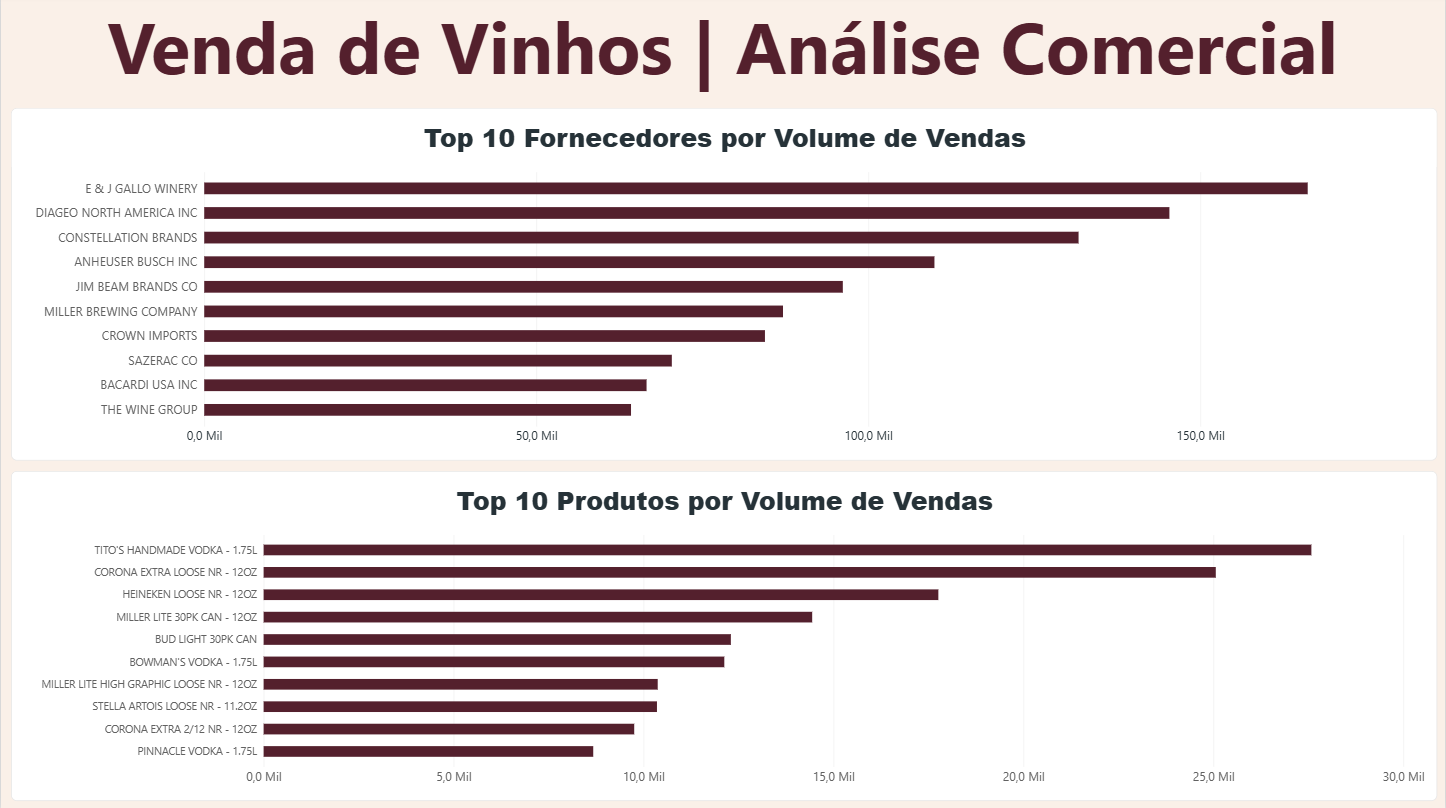

The dashboard page shown, as its layout file describes it:
{"tool":"powerbi","page":{"name":"Análise Comercial","canvas":[1920,1080],"ordinal":1},"visuals":[{"type":"barChart","title":"Top 10 Fornecedores por Volume de Vendas ","fields":{"Category":["Vendas por Fornecedor.SUPPLIER"],"Y":["Vendas por Fornecedor.Retail Sales por Fornecedor"]},"box":[13,149.1,1896.8,469.1],"z":0},{"type":"barChart","title":"Top 10 Produtos por Volume de Vendas","fields":{"Category":["Vendas por Produto.ITEM_DESCRIPTION"],"Y":["Vendas por Produto.Retail Sales por Produto"]},"box":[13,631.3,1896.8,438.7],"z":1},{"type":"textbox","box":[0,0,1920,162],"z":2}]}

Visuals, with their boxes in screenshot pixels (x1, y1, x2, y2), scaled from the page's 1920x1080 canvas onto the 1446x808 screenshot:
"Top 10 Fornecedores por Volume de Vendas " barChart: [left=10, top=112, right=1438, bottom=463]
"Top 10 Produtos por Volume de Vendas" barChart: [left=10, top=472, right=1438, bottom=801]
textbox: [left=0, top=0, right=1445, bottom=121]
